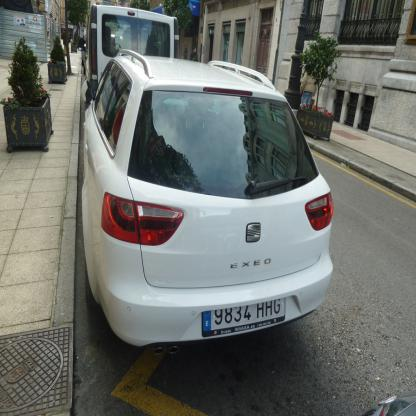Car: (73, 40, 328, 375)
